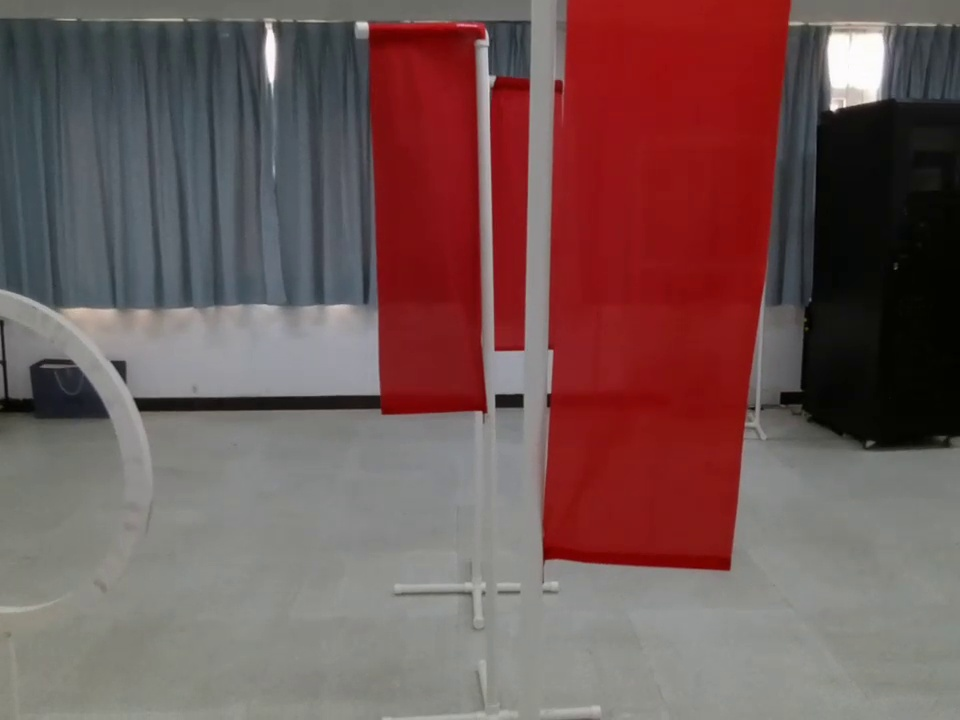qi: (530, 4, 782, 619), (347, 16, 501, 487)
quan: (2, 284, 159, 621)
